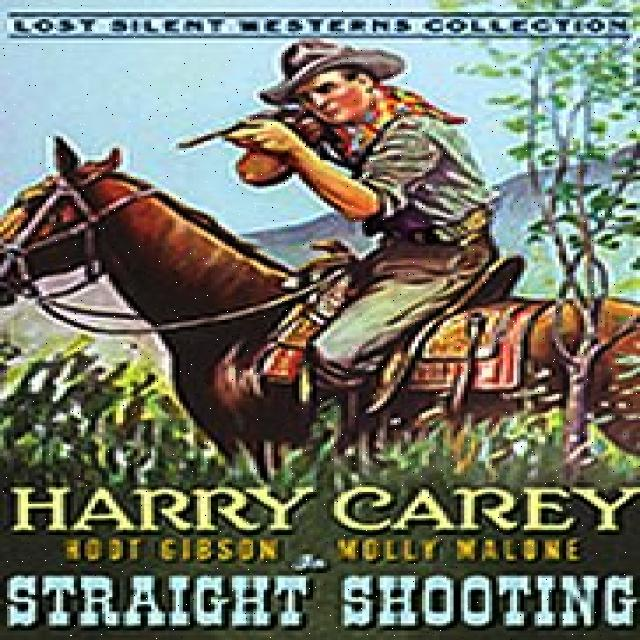movie-judul: (9, 475, 640, 639)
picture: (0, 36, 640, 470)
